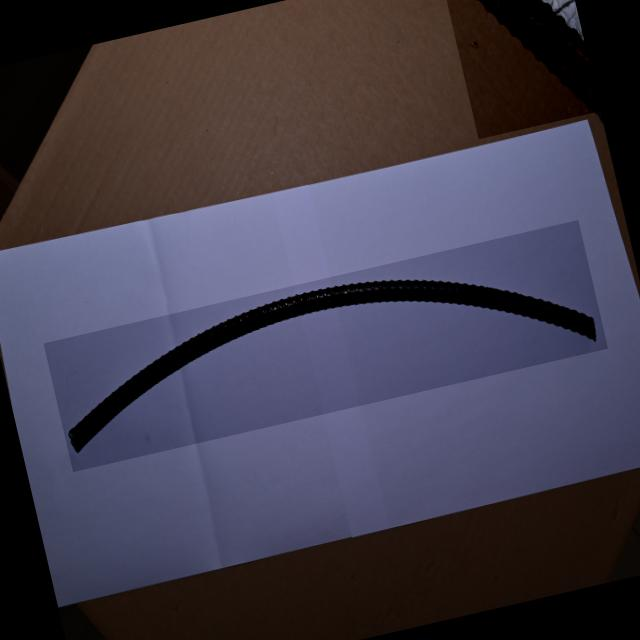ribbed bar: (43, 219, 608, 472), (439, 0, 600, 139)
